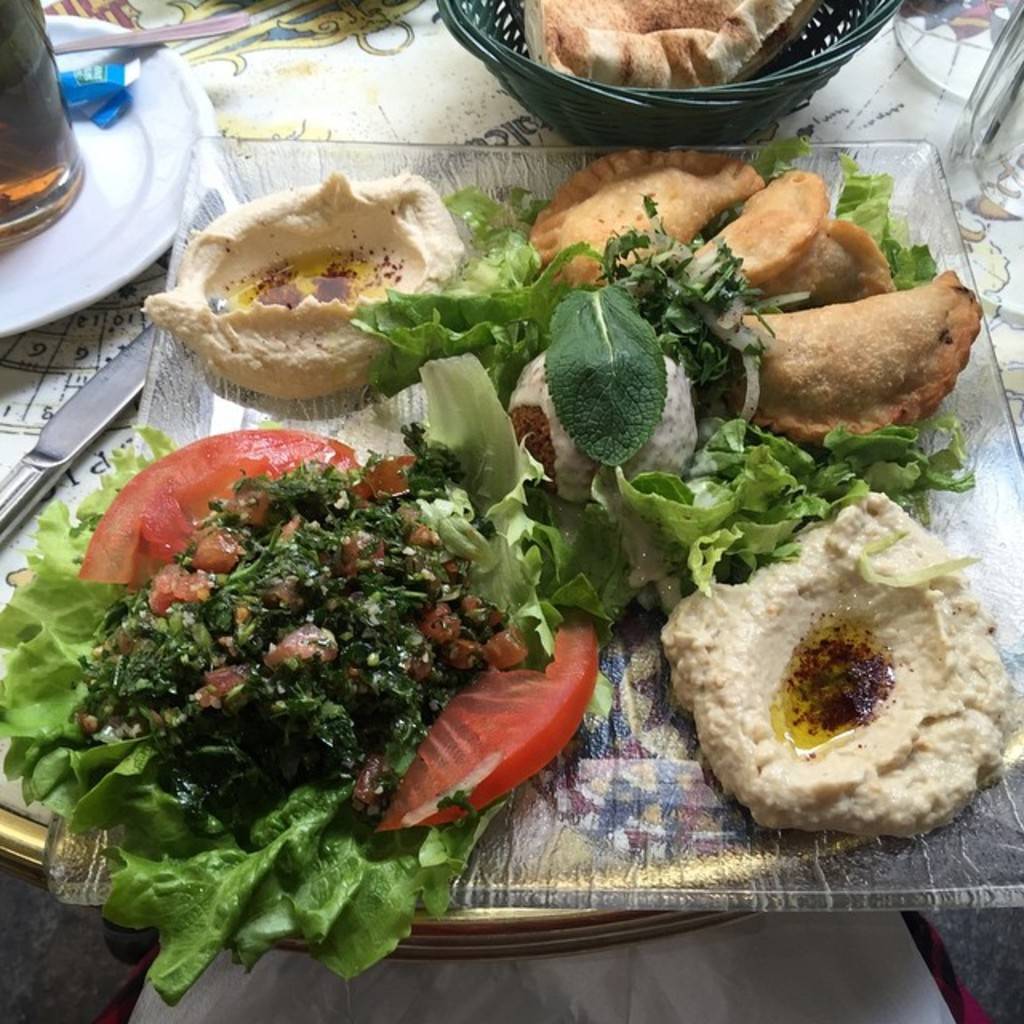Tomato: (73, 425, 603, 843)
